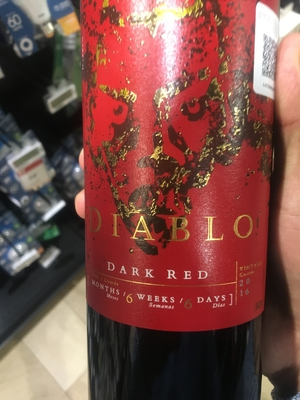diablo dark red: (79, 2, 271, 400)
